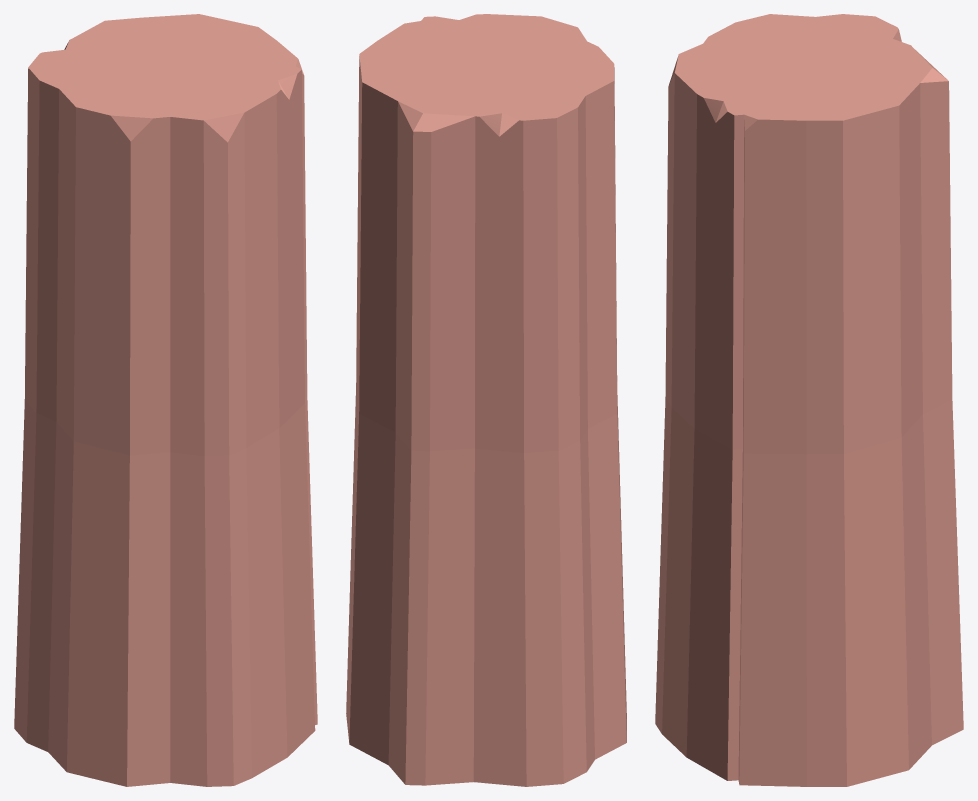
The model's file is SuperGrid_Hexagon_024_Vlad.fbx.
The picture shows the model from 3 angles, left to right: view 1: azimuth 30°, elevation 25°; view 2: azimuth 150°, elevation 25°; view 3: azimuth 270°, elevation 25°; orthographic projection.
Parts seen in each view (by area): view 1: SuperGrid_Hexagon.024; view 2: SuperGrid_Hexagon.024; view 3: SuperGrid_Hexagon.024.
Boxes of the visible parts, bbox=[...] form: SuperGrid_Hexagon.024: bbox=[14, 14, 317, 786]; SuperGrid_Hexagon.024: bbox=[346, 14, 626, 786]; SuperGrid_Hexagon.024: bbox=[655, 14, 963, 786].
Bounding box in the file's own units: 19053 × 50000 × 21163.
